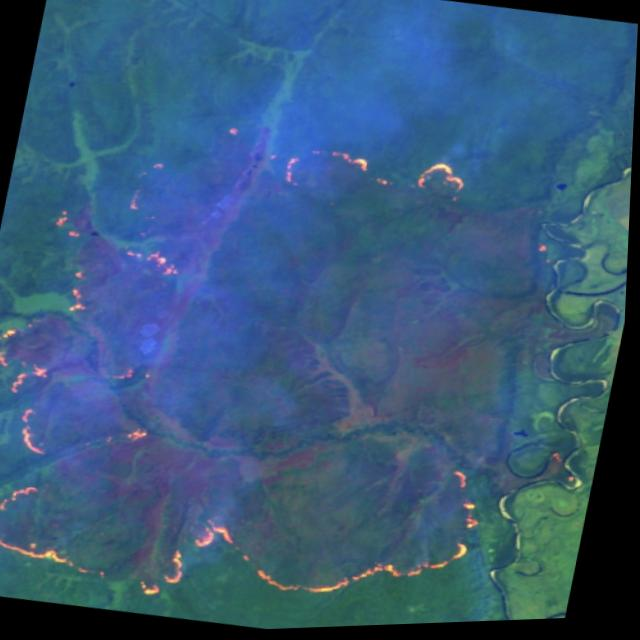fire: (0, 185, 548, 640), (258, 121, 484, 226)
